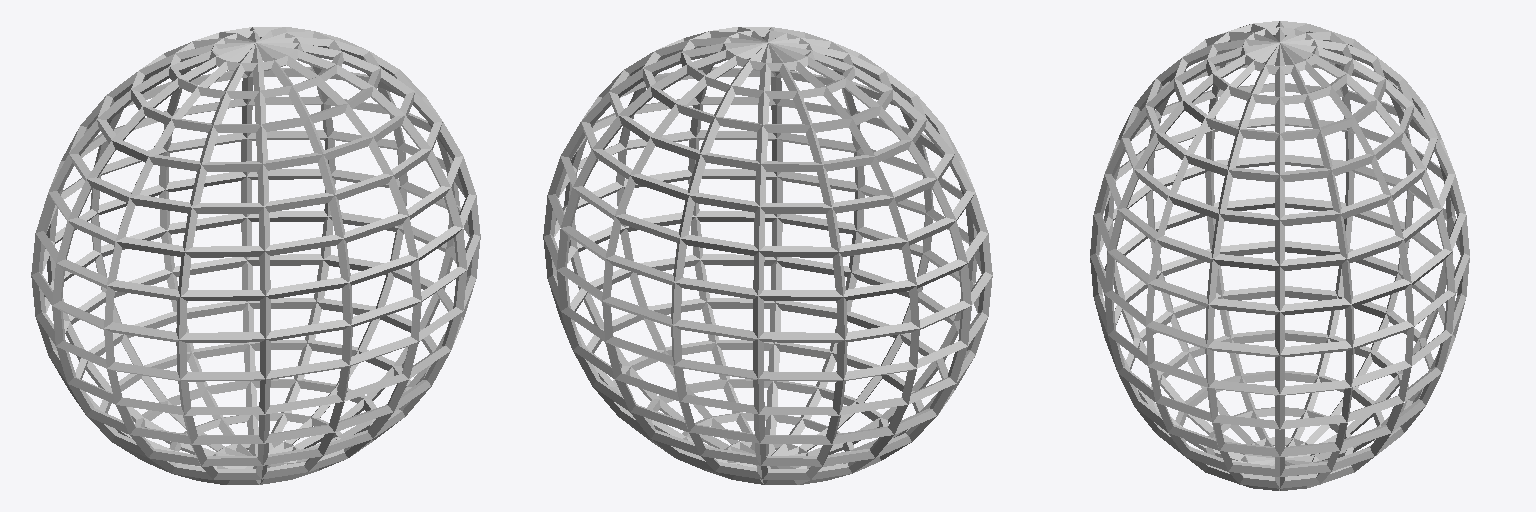
File: Fan.obj
3 renders of one model, left to right at view 1: azimuth 30°, elevation 25°; view 2: azimuth 150°, elevation 25°; view 3: azimuth 270°, elevation 25°, orthographic.
Parts seen in each view (by area): view 1: Electric_Fan; view 2: Electric_Fan; view 3: Electric_Fan.
Boxes of the visible parts, box(x1,y1,x2,y2) form: Electric_Fan: box(31, 27, 480, 484); Electric_Fan: box(543, 27, 992, 484); Electric_Fan: box(1090, 21, 1469, 490).
Bounding box in the file's own units: 2.05 × 2.05 × 1.65.